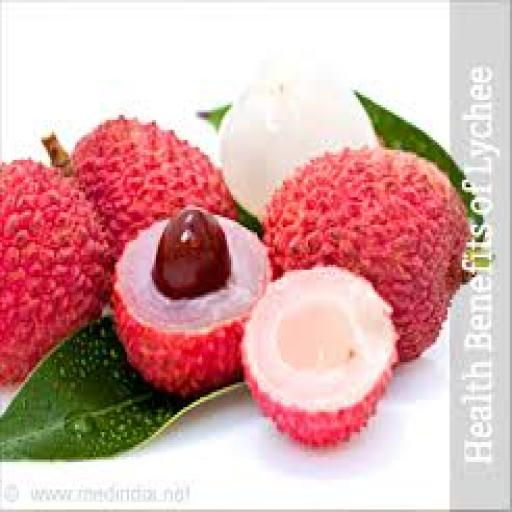lychee: (265, 148, 468, 362), (113, 208, 270, 397), (242, 268, 397, 447), (221, 58, 376, 217), (0, 160, 110, 384), (71, 118, 237, 257)
